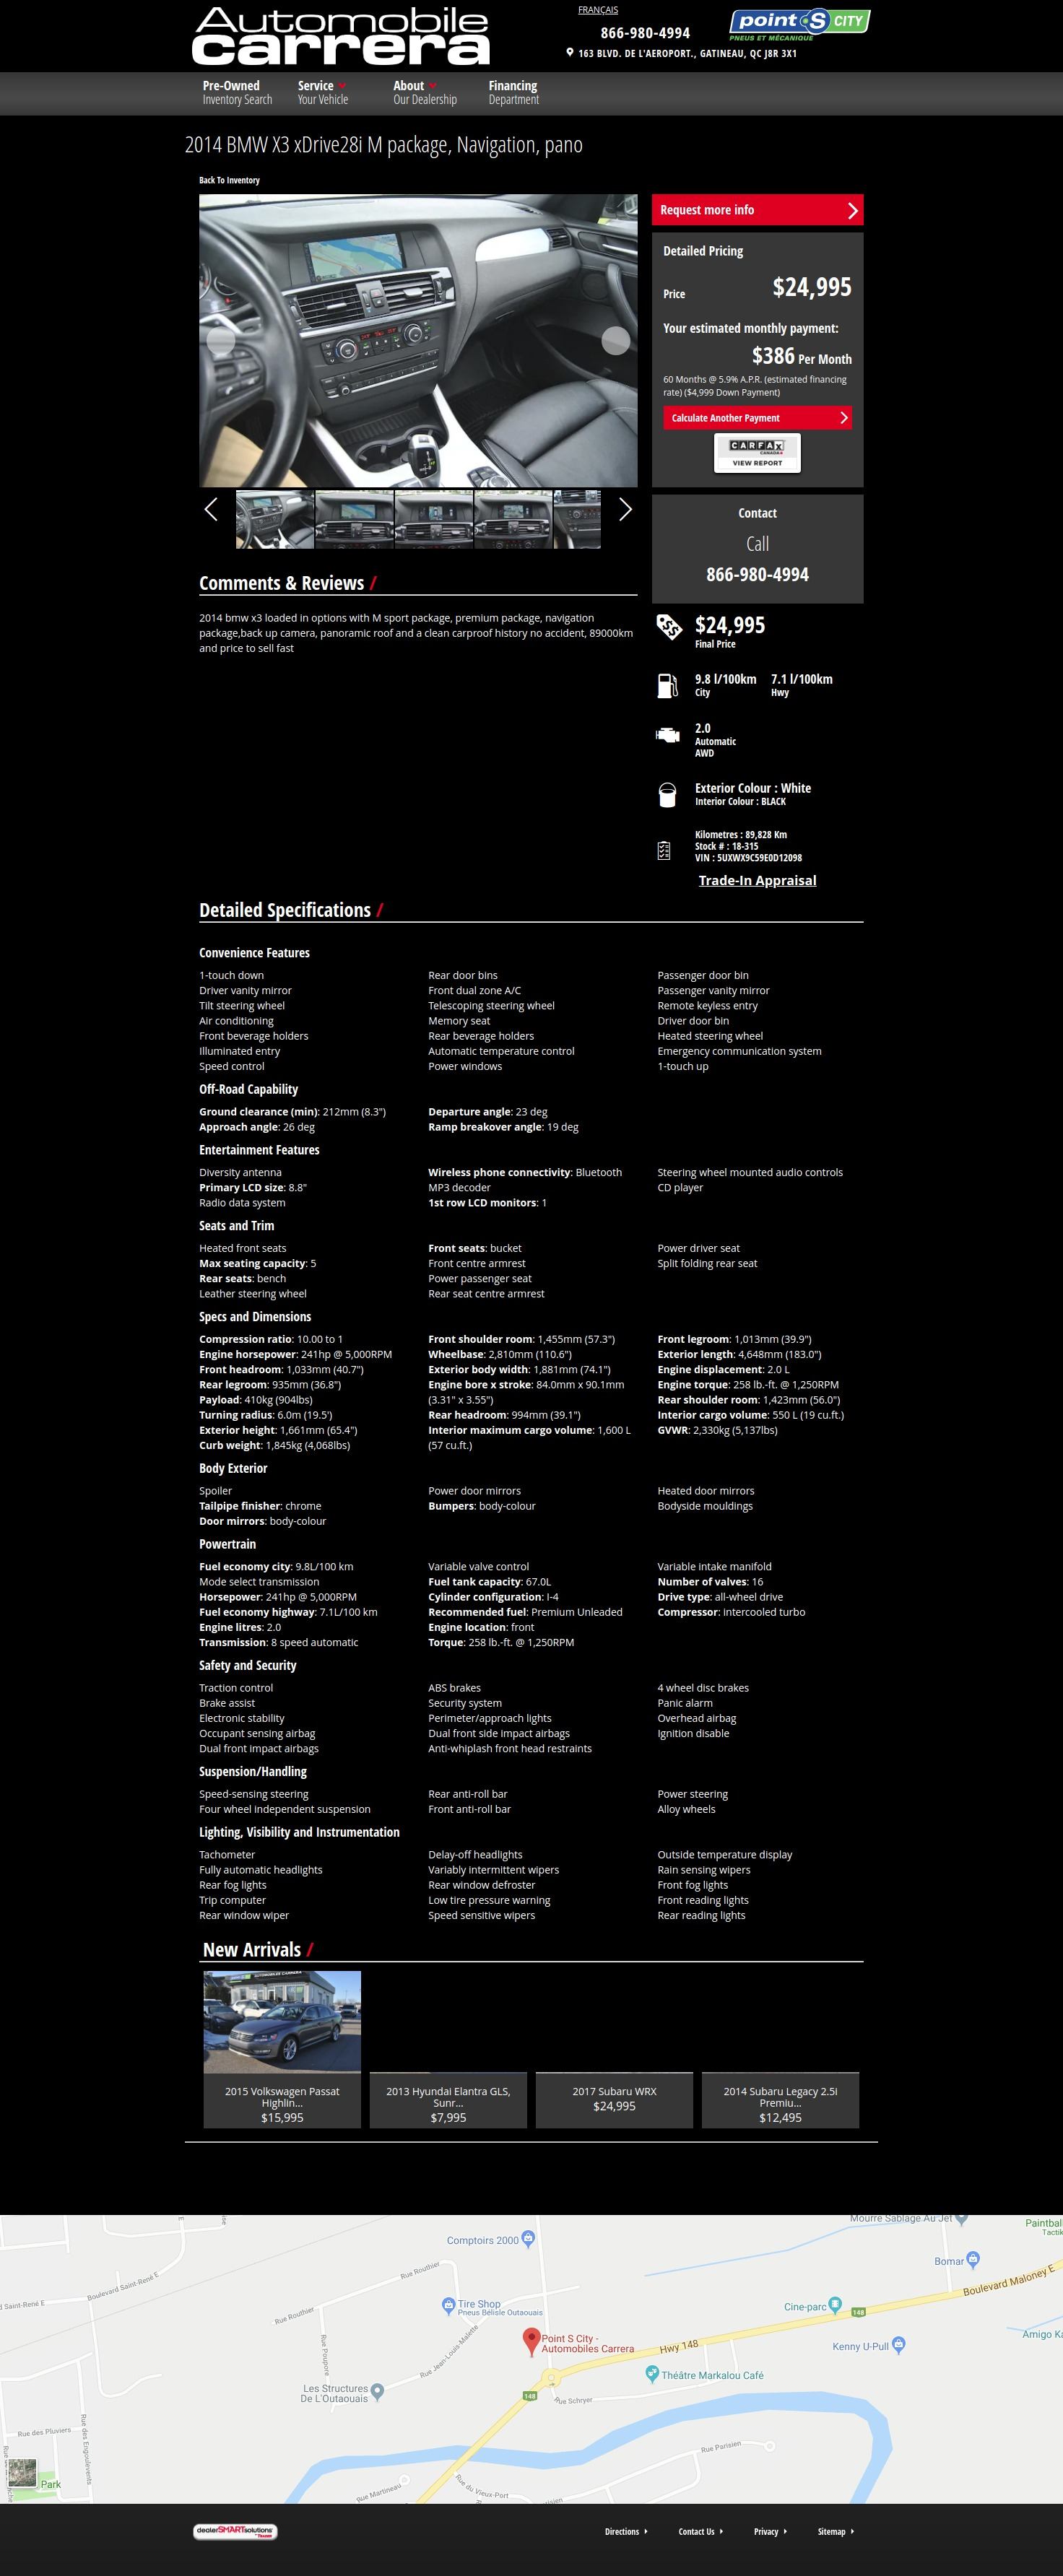car: (618, 498, 634, 522)
